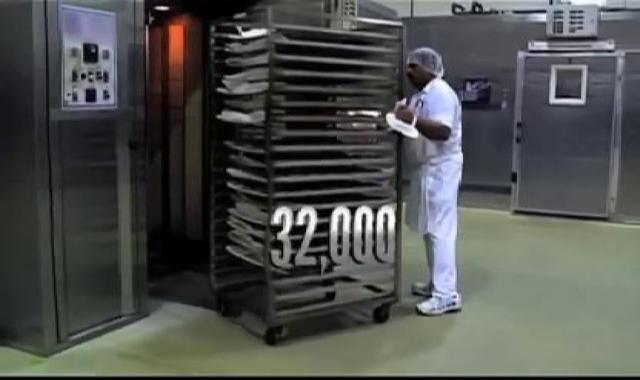hairnet: (411, 41, 458, 80)
